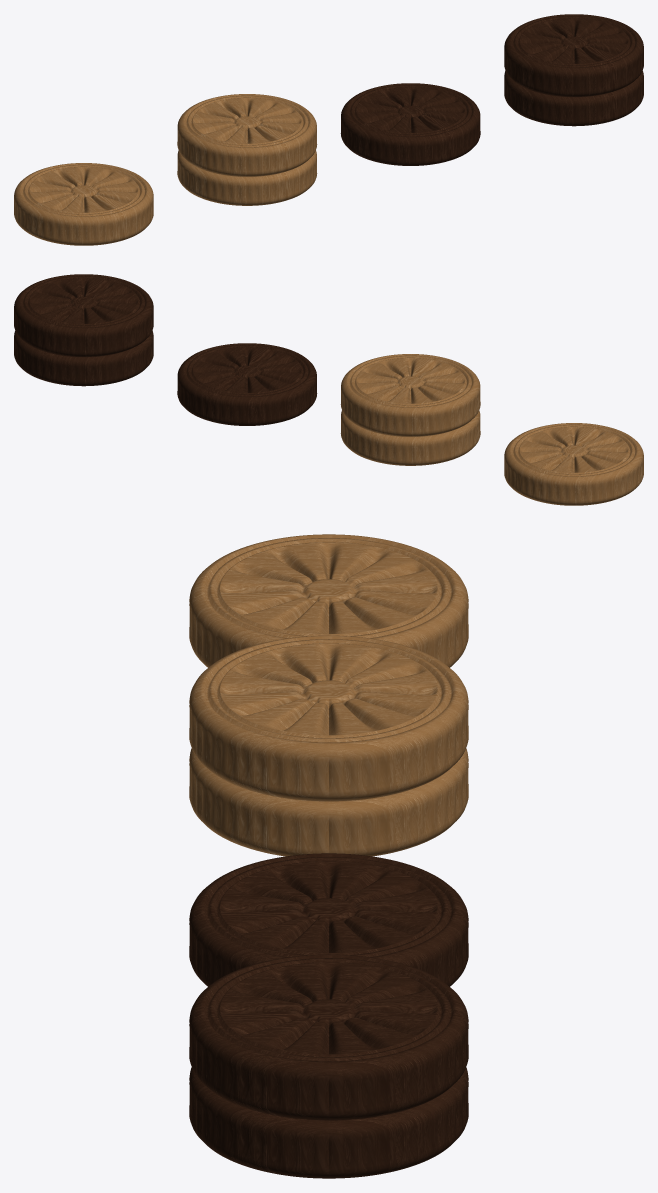
Rendered from rosette.glb.
3 renders of one model, top to bottom at view 1: azimuth 30°, elevation 25°; view 2: azimuth 150°, elevation 25°; view 3: azimuth 270°, elevation 25°, orthographic. The views are drawn at different scales.
Parts seen in each view (by area): view 1: dark_king counter 2, dark_man counter 1, light_king counter 2, light_man counter 1, light_king counter 1, dark_king counter 1; view 2: dark_king counter 2, dark_man counter 1, light_king counter 2, light_man counter 1, light_king counter 1, dark_king counter 1; view 3: light_king counter 2, dark_king counter 2, dark_man counter 1, light_man counter 1, dark_king counter 1, light_king counter 1.
Part boxes in pixels (bbox=[...]): dark_king counter 2: bbox=[504, 14, 643, 96]; dark_man counter 1: bbox=[340, 83, 480, 165]; light_king counter 2: bbox=[177, 94, 317, 176]; light_man counter 1: bbox=[14, 163, 153, 245]; light_king counter 1: bbox=[177, 150, 317, 205]; dark_king counter 1: bbox=[504, 70, 643, 126]; dark_king counter 2: bbox=[14, 274, 153, 356]; dark_man counter 1: bbox=[177, 343, 317, 425]; light_king counter 2: bbox=[340, 354, 480, 436]; light_man counter 1: bbox=[504, 423, 643, 505]; light_king counter 1: bbox=[340, 410, 480, 465]; dark_king counter 1: bbox=[14, 330, 153, 386]; light_king counter 2: bbox=[189, 635, 468, 801]; dark_king counter 2: bbox=[189, 954, 468, 1120]; dark_man counter 1: bbox=[189, 853, 468, 986]; light_man counter 1: bbox=[189, 534, 468, 667]; dark_king counter 1: bbox=[189, 1067, 468, 1178]; light_king counter 1: bbox=[189, 748, 468, 856].
Bounding box in the file's own units: 0.202 × 0.0182 × 0.04.
Materials: 2 (2 with a texture image).
